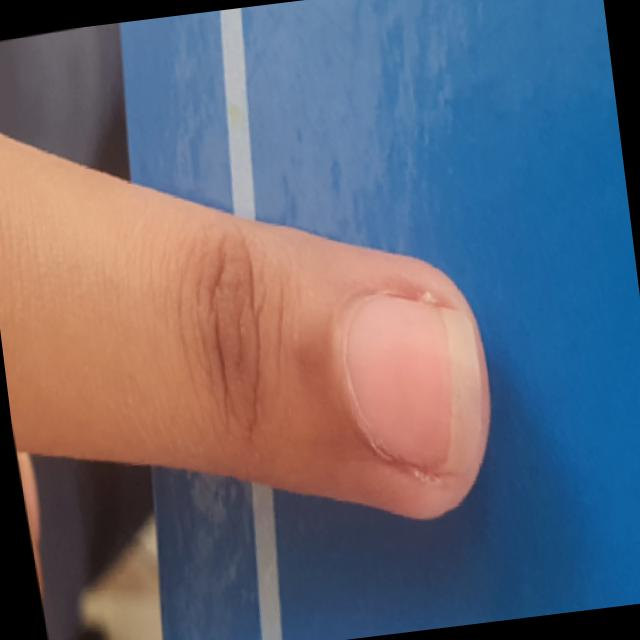Nail: (342, 296, 475, 474)
